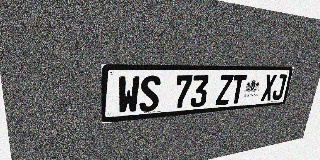3: (190, 75, 209, 108)
7: (173, 75, 193, 109)
J: (271, 74, 287, 100)
S: (139, 75, 161, 112)
T: (229, 75, 247, 104)
W: (117, 76, 140, 114)
X: (261, 74, 277, 101)
Z: (215, 75, 234, 105)
